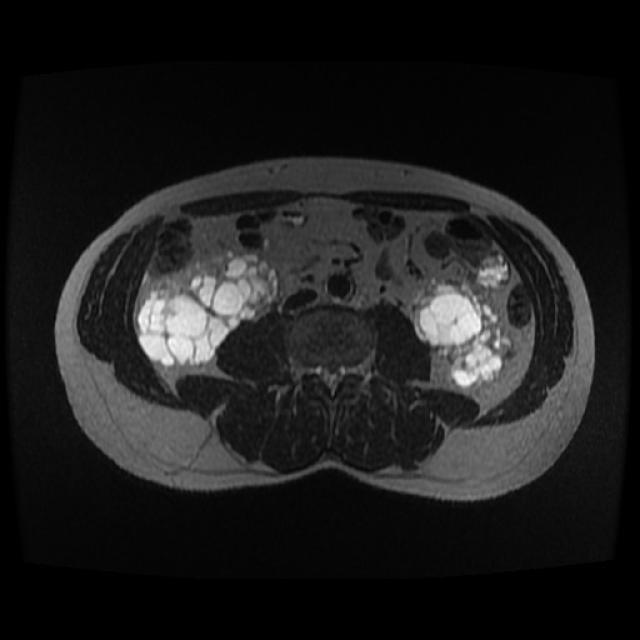sag: (134, 248, 281, 369)
sol: (409, 266, 519, 391)
